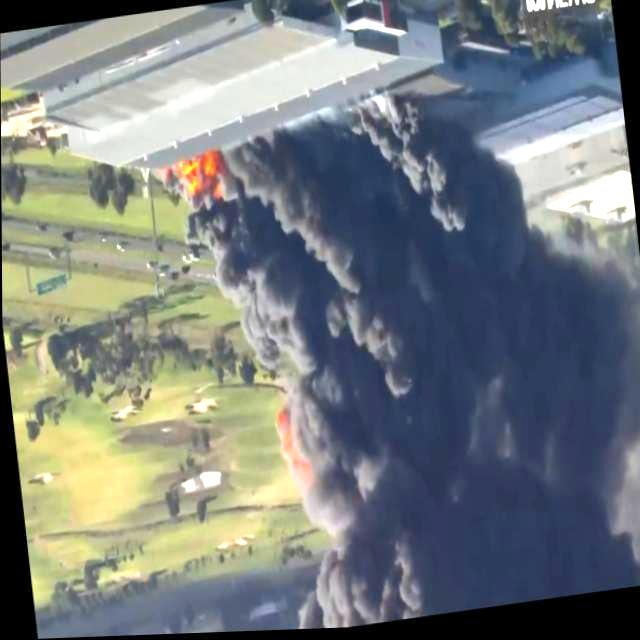fire: (176, 150, 227, 210)
